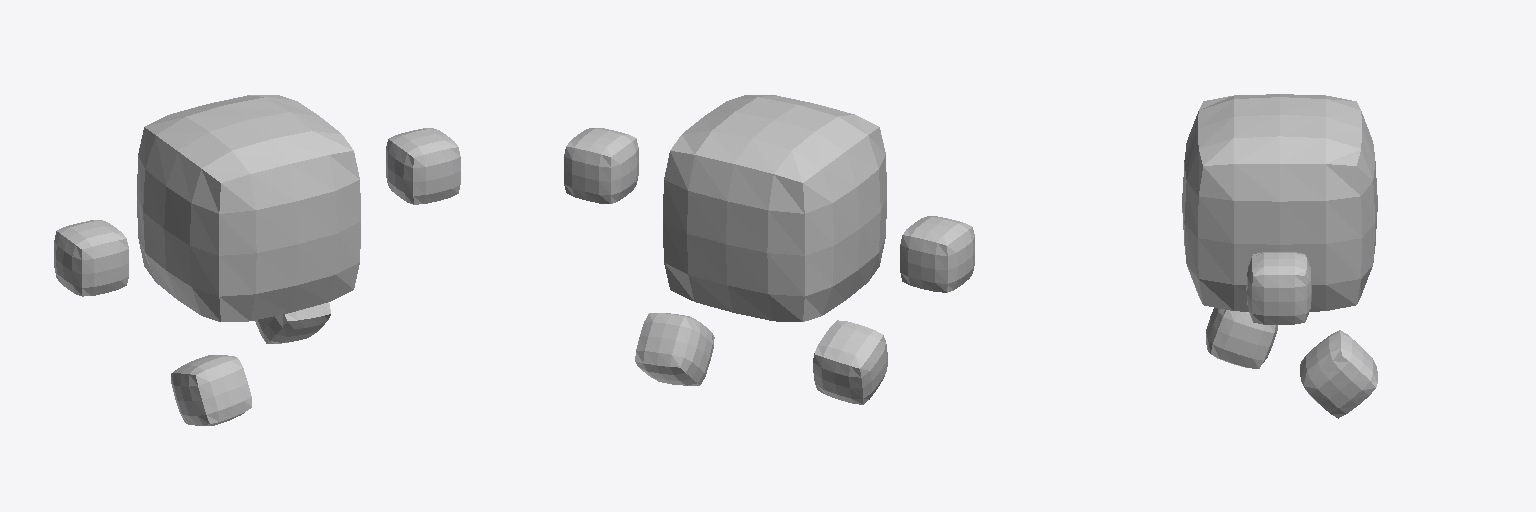
Rendered from boxManWalk2.obj.
The picture shows the model from 3 angles: view 1: azimuth 30°, elevation 25°; view 2: azimuth 150°, elevation 25°; view 3: azimuth 270°, elevation 25°; orthographic projection.
Parts seen in each view (by area): view 1: Cube_Cube.001, Cube.004_Cube.005, Cube.003_Cube.004, Cube.002_Cube.003, Cube.001_Cube.002; view 2: Cube_Cube.001, Cube.002_Cube.003, Cube.003_Cube.004, Cube.004_Cube.005, Cube.001_Cube.002; view 3: Cube_Cube.001, Cube.001_Cube.002, Cube.004_Cube.005, Cube.002_Cube.003.
Boxes of the visible parts, x1,y1,x2,y2 form: Cube_Cube.001: [137, 95, 360, 321]; Cube.004_Cube.005: [386, 128, 460, 204]; Cube.003_Cube.004: [54, 220, 128, 296]; Cube.002_Cube.003: [171, 355, 251, 425]; Cube.001_Cube.002: [255, 302, 330, 343]; Cube_Cube.001: [663, 95, 886, 321]; Cube.002_Cube.003: [813, 320, 887, 404]; Cube.003_Cube.004: [900, 216, 974, 292]; Cube.004_Cube.005: [564, 128, 638, 203]; Cube.001_Cube.002: [635, 313, 714, 385]; Cube_Cube.001: [1182, 94, 1377, 311]; Cube.001_Cube.002: [1300, 330, 1377, 418]; Cube.004_Cube.005: [1246, 252, 1311, 324]; Cube.002_Cube.003: [1206, 308, 1277, 368].
Bounding box in the file's own units: 4.53 × 3.06 × 1.97.